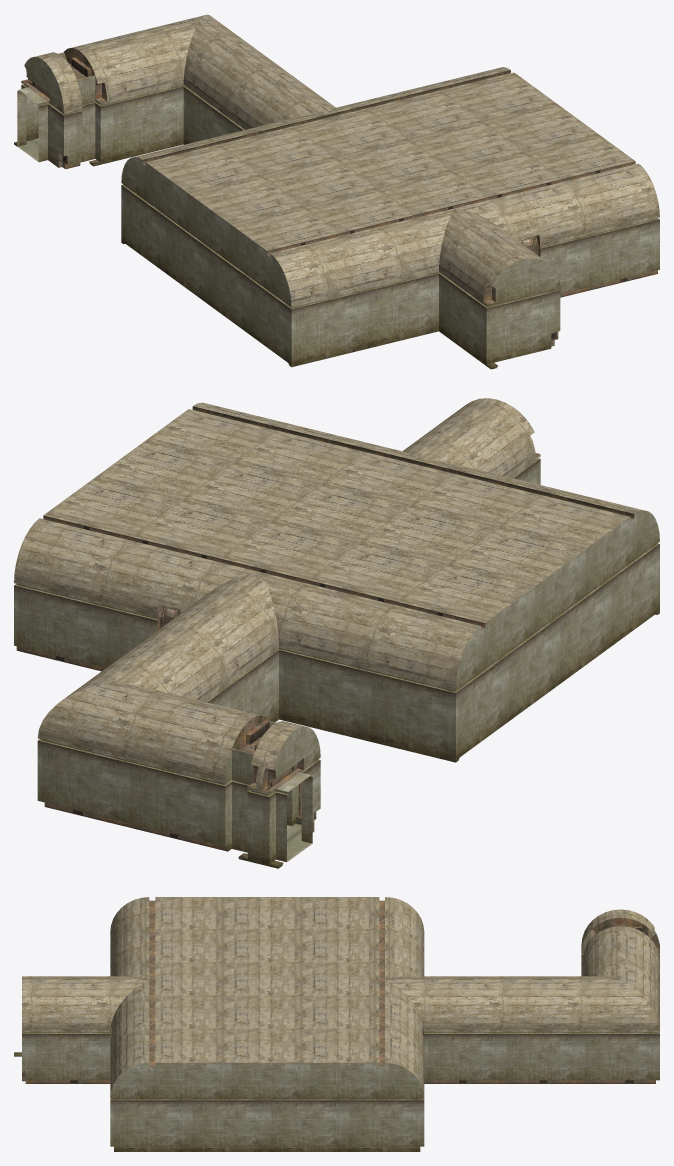
File: poi_all_bunker_allum_mine_r21_smallroom21_mesh_r21.fbx
3 views of the same model, one above another, from view 1: azimuth 30°, elevation 25°; view 2: azimuth 150°, elevation 25°; view 3: azimuth 270°, elevation 25° (orthographic). The views are drawn at different scales.
Visible parts, largest first — view 1: mesh_node; view 2: mesh_node; view 3: mesh_node.
Boxes of the visible parts, box(x1,y1,x2,y2) form: mesh_node: box(14, 14, 659, 369); mesh_node: box(14, 398, 659, 868); mesh_node: box(14, 897, 659, 1151).
Size of the model in its own units: 20 by 5.1 by 32.9.
